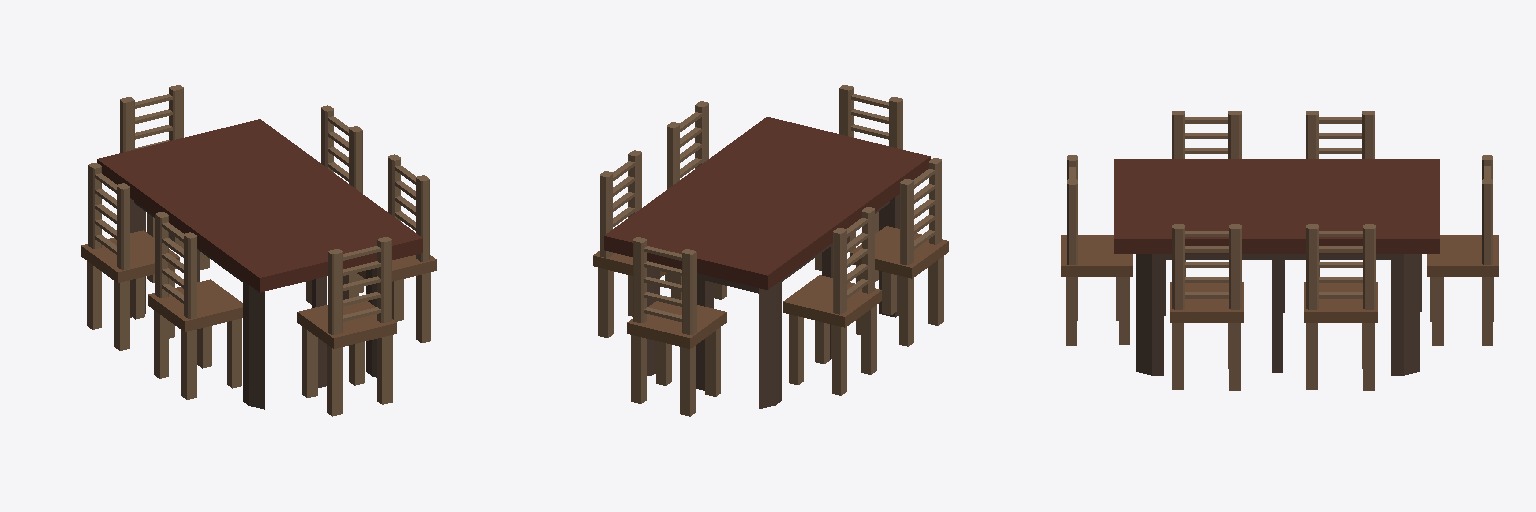
The model's file is Table_Chairs.obj.
3 renders of one model, left to right at view 1: azimuth 30°, elevation 25°; view 2: azimuth 150°, elevation 25°; view 3: azimuth 270°, elevation 25°, orthographic.
Visible parts, largest first — view 1: mergedBlocks; view 2: mergedBlocks; view 3: mergedBlocks.
Part boxes in pixels (x1,y1,x2,y2): mergedBlocks: (81,85,436,416); mergedBlocks: (593,85,948,416); mergedBlocks: (1061,111,1498,390).
Size of the model in its own units: 1.91 by 1.25 by 2.87.